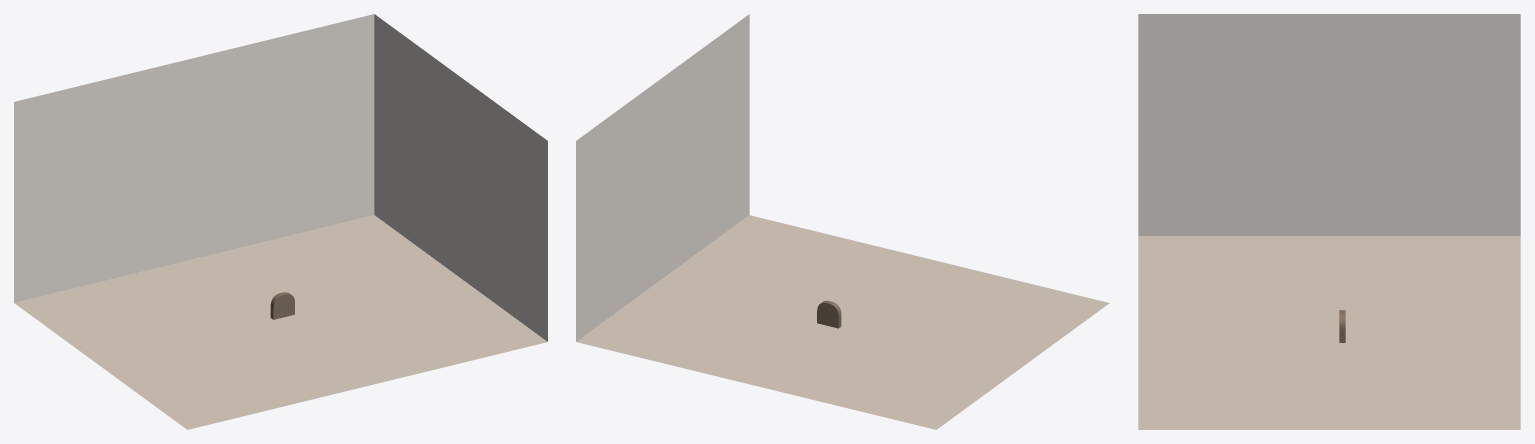
The model's file is forma-arco_apuntado.glb.
3 views of the same model, side by side, from view 1: azimuth 30°, elevation 25°; view 2: azimuth 150°, elevation 25°; view 3: azimuth 270°, elevation 25° (orthographic). The views are drawn at different scales.
Parts seen in each view (by area): view 1: sala, decoracion; view 2: sala, decoracion; view 3: sala.
Boxes of the visible parts, bbox=[...] form: sala: bbox=[14, 14, 547, 429]; decoracion: bbox=[270, 292, 294, 319]; sala: bbox=[576, 14, 1109, 429]; decoracion: bbox=[817, 300, 841, 328]; sala: bbox=[1138, 14, 1520, 429].
Size of the model in its own units: 6 by 3.2 by 5.
